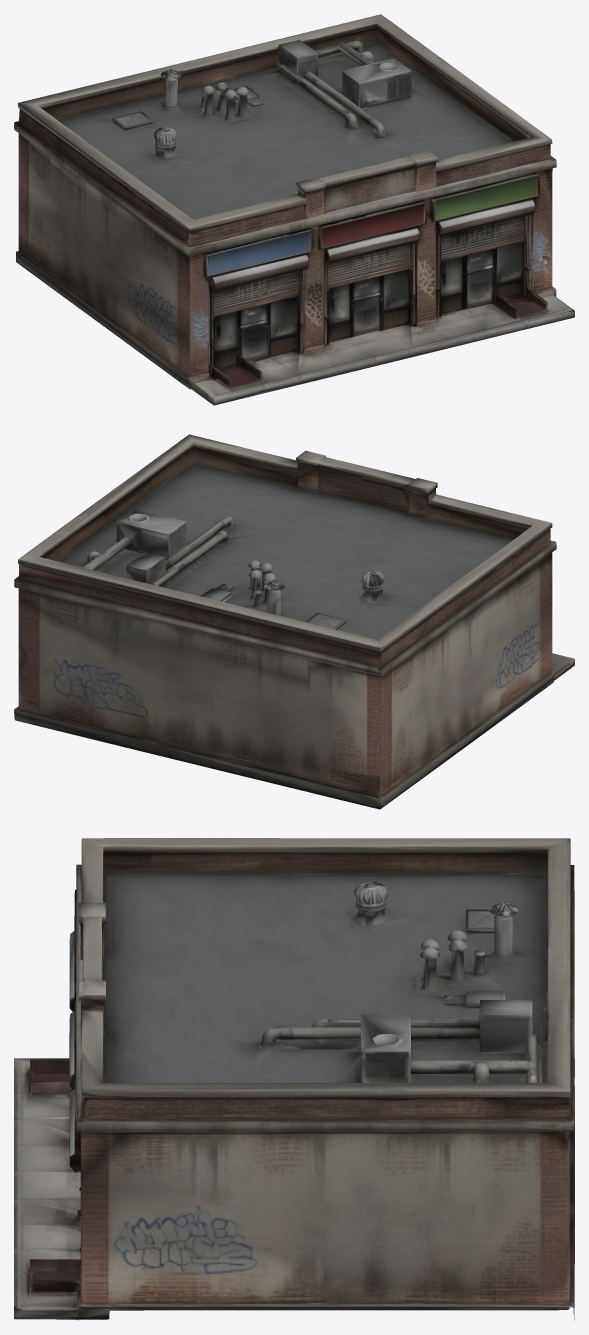
The model's file is storefront_row.glb.
The picture shows the model from 3 angles, top to bottom: view 1: azimuth 30°, elevation 25°; view 2: azimuth 150°, elevation 25°; view 3: azimuth 270°, elevation 25°; orthographic projection. The views are drawn at different scales.
Visible parts, largest first — view 1: node_0; view 2: node_0; view 3: node_0.
Boxes of the visible parts, <box> form: node_0: <box>14,14,574,405</box>; node_0: <box>14,434,574,809</box>; node_0: <box>14,838,574,1320</box>.
Size of the model in its own units: 0.8382 by 0.3899 by 0.7735.
1 material, 1 textured.
